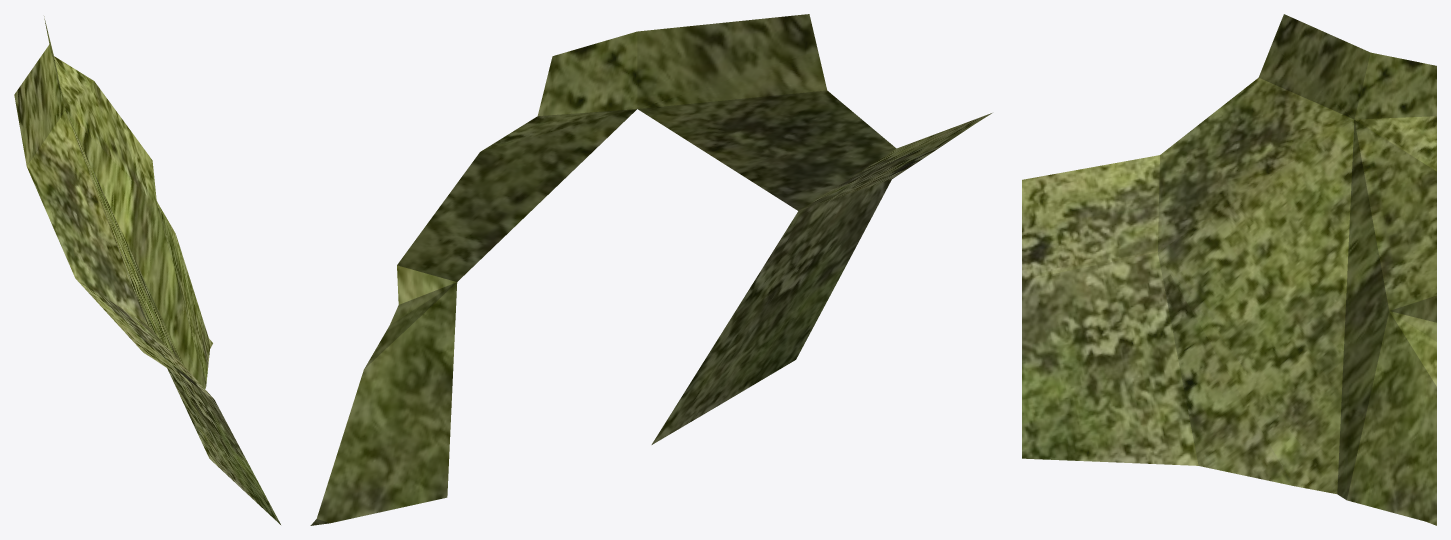
The picture shows the model from 3 angles, left to right: view 1: azimuth 30°, elevation 25°; view 2: azimuth 150°, elevation 25°; view 3: azimuth 270°, elevation 25°; orthographic projection. The views are drawn at different scales.
Size of the model in its own units: 2.29 by 2.95 by 2.95.
3 materials, 3 textured.
